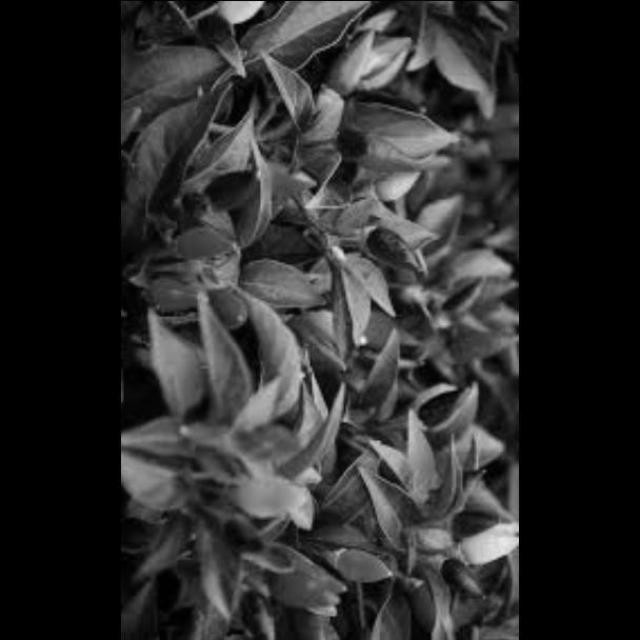ot cay: (435, 252, 521, 373), (246, 544, 352, 639), (446, 72, 520, 189), (324, 21, 419, 112), (331, 115, 442, 184), (293, 307, 366, 388), (410, 375, 481, 442), (230, 469, 317, 523), (399, 567, 462, 639), (207, 156, 273, 216), (140, 268, 224, 315), (369, 225, 435, 282), (169, 226, 248, 271), (186, 1, 243, 60), (442, 452, 497, 512), (219, 512, 278, 566), (331, 542, 402, 584), (458, 0, 520, 46), (212, 280, 256, 342), (122, 94, 150, 188), (435, 554, 491, 600), (444, 500, 508, 540)
